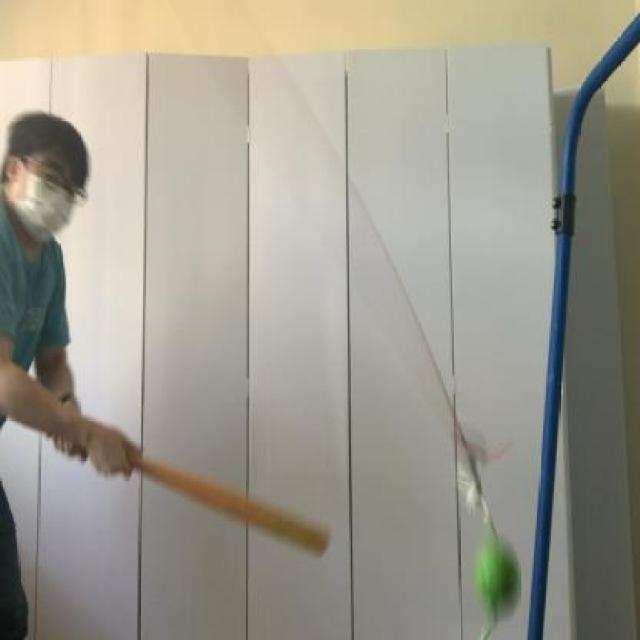baseball: (468, 536, 522, 624)
